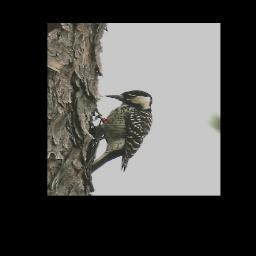Woodpecker: (86, 90, 153, 174)
